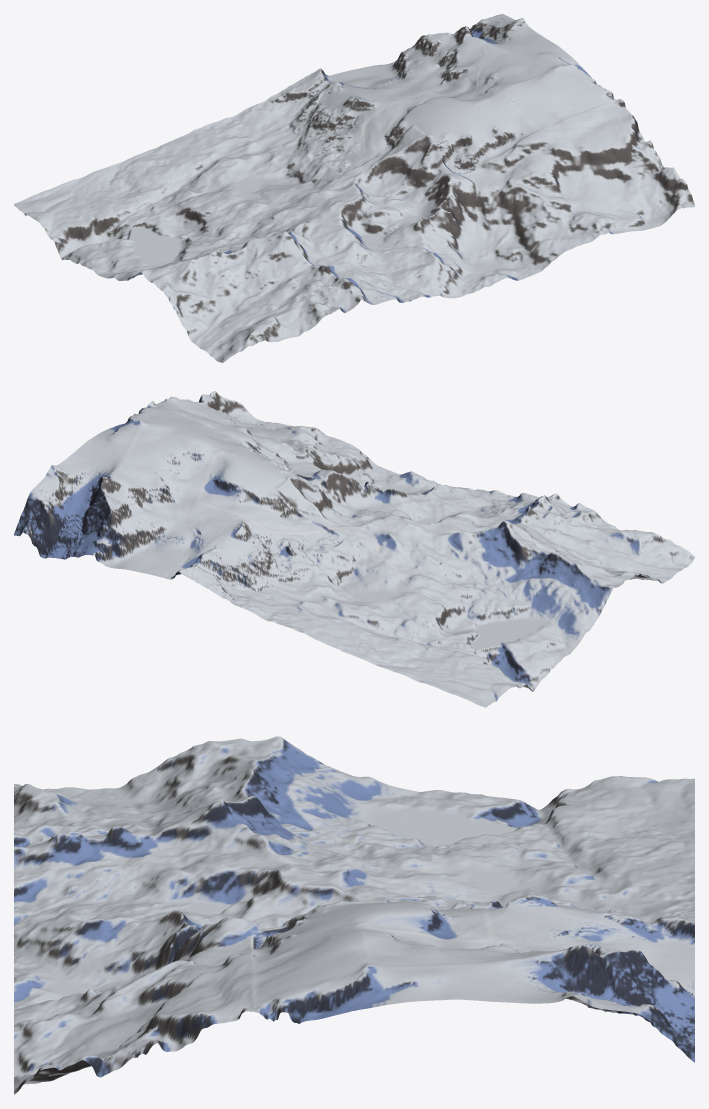
File: terrain_lod1.glb
The picture shows the model from 3 angles, top to bottom: view 1: azimuth 30°, elevation 25°; view 2: azimuth 150°, elevation 25°; view 3: azimuth 270°, elevation 25°; orthographic projection. The views are drawn at different scales.
Visible parts, largest first — view 1: T1_8_7, T1_7_5, T1_11_7, T1_12_9, T1_12_8, T1_8_5, T1_9_6, T1_9_8, T1_10_7, T1_1_7, T1_2_7, T1_9_5 (+108 smaller); view 2: T1_12_0, T1_10_0, T1_11_0, T1_0_5, T1_7_1, T1_12_1, T1_1_5, T1_3_6, T1_0_9, T1_10_2, T1_3_5, T1_9_1 (+95 smaller); view 3: T1_12_5, T1_11_1, T1_4_9, T1_6_9, T1_12_4, T1_5_7, T1_0_7, T1_4_8, T1_7_8, T1_12_7, T1_6_8, T1_3_7 (+102 smaller).
Boxes of the visible parts, <box> form: T1_8_7: <box>451,181,507,236</box>; T1_7_5: <box>372,145,429,199</box>; T1_11_7: <box>560,127,616,179</box>; T1_12_9: <box>638,168,694,226</box>; T1_12_8: <box>617,144,673,195</box>; T1_8_5: <box>409,121,465,171</box>; T1_9_6: <box>466,130,522,180</box>; T1_9_8: <box>508,189,564,235</box>; T1_10_7: <box>523,140,580,188</box>; T1_1_7: <box>197,268,253,315</box>; T1_2_7: <box>233,248,289,297</box>; T1_9_5: <box>445,103,501,151</box>; T1_12_0: <box>14,487,70,558</box>; T1_10_0: <box>86,506,143,568</box>; T1_11_0: <box>50,507,107,559</box>; T1_0_5: <box>554,583,611,628</box>; T1_7_1: <box>216,541,273,592</box>; T1_12_1: <box>35,465,91,513</box>; T1_1_5: <box>518,577,574,617</box>; T1_3_6: <box>466,520,522,565</box>; T1_0_9: <box>638,533,694,575</box>; T1_10_2: <box>128,474,184,518</box>; T1_3_5: <box>445,549,501,589</box>; T1_9_1: <box>144,518,200,554</box>; T1_12_5: <box>286,962,354,1023</box>; T1_11_1: <box>558,945,626,1005</box>; T1_4_9: <box>14,851,81,903</box>; T1_6_9: <box>14,914,81,969</box>; T1_12_4: <box>354,961,422,1010</box>; T1_5_7: <box>150,864,218,915</box>; T1_0_7: <box>150,741,218,804</box>; T1_4_8: <box>82,853,150,895</box>; T1_7_8: <box>82,938,150,993</box>; T1_12_7: <box>150,998,218,1051</box>; T1_6_8: <box>82,911,150,955</box>; T1_3_7: <box>150,801,218,852</box>.
Size of the model in its own units: 6656 by 1670 by 5120.
